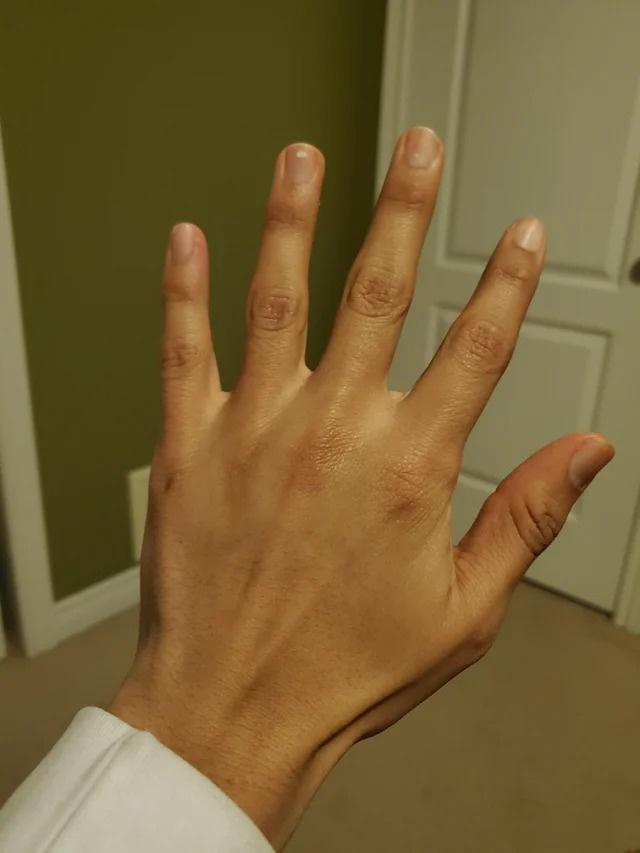hand: (137, 124, 615, 712)
